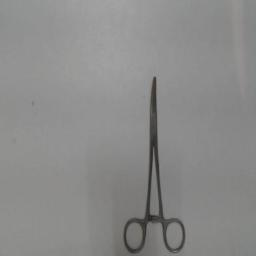Crile Artery Forceps: (120, 70, 188, 256)
